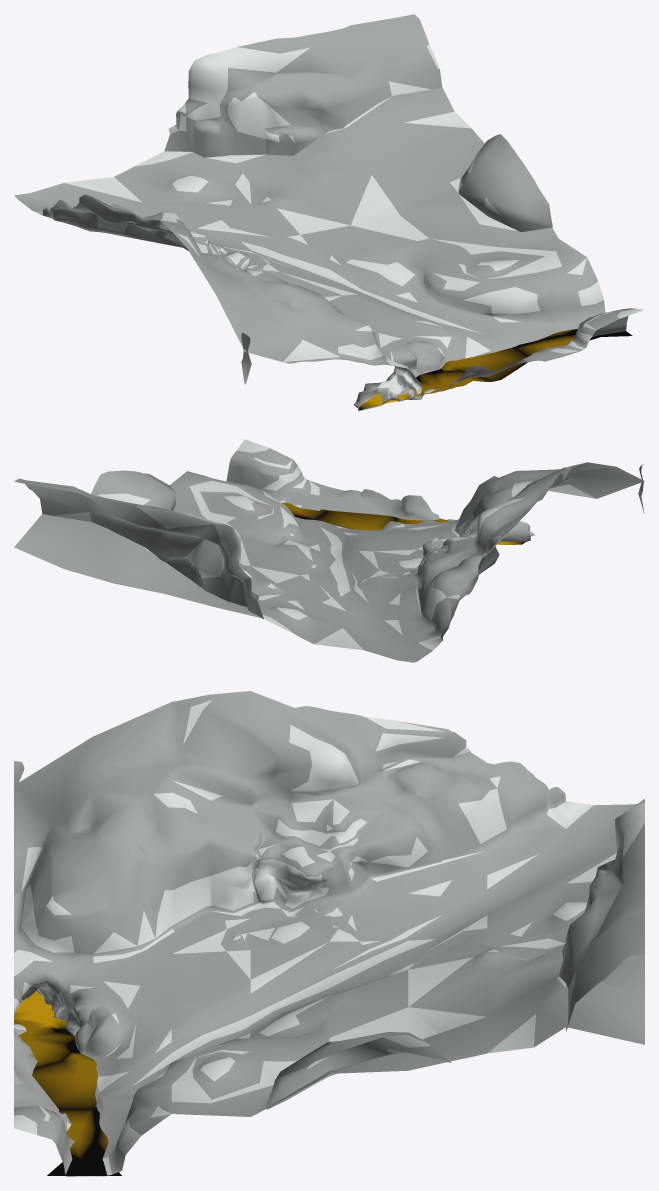
3 renders of one model, top to bottom at view 1: azimuth 30°, elevation 25°; view 2: azimuth 150°, elevation 25°; view 3: azimuth 270°, elevation 25°, orthographic. The views are drawn at different scales.
Visible parts, largest first — view 1: G:\FFXIV-MapTools\exports\f1f3\bg\ffxiv\fst_f1\fld\f1f3\bgpl (×15); view 2: G:\FFXIV-MapTools\exports\f1f3\bg\ffxiv\fst_f1\fld\f1f3\bgpl (×15); view 3: G:\FFXIV-MapTools\exports\f1f3\bg\ffxiv\fst_f1\fld\f1f3\bgpl (×15).
Part boxes in pixels (box(x1,y1,x2,y2)): G:\FFXIV-MapTools\exports\f1f3\bg\ffxiv\fst_f1\fld\f1f3\bgpl (×15): box(14, 14, 643, 410); G:\FFXIV-MapTools\exports\f1f3\bg\ffxiv\fst_f1\fld\f1f3\bgpl (×15): box(14, 439, 644, 662); G:\FFXIV-MapTools\exports\f1f3\bg\ffxiv\fst_f1\fld\f1f3\bgpl (×15): box(14, 691, 644, 1176).
Bounding box in the file's own units: 128 × 52.85 × 128.
